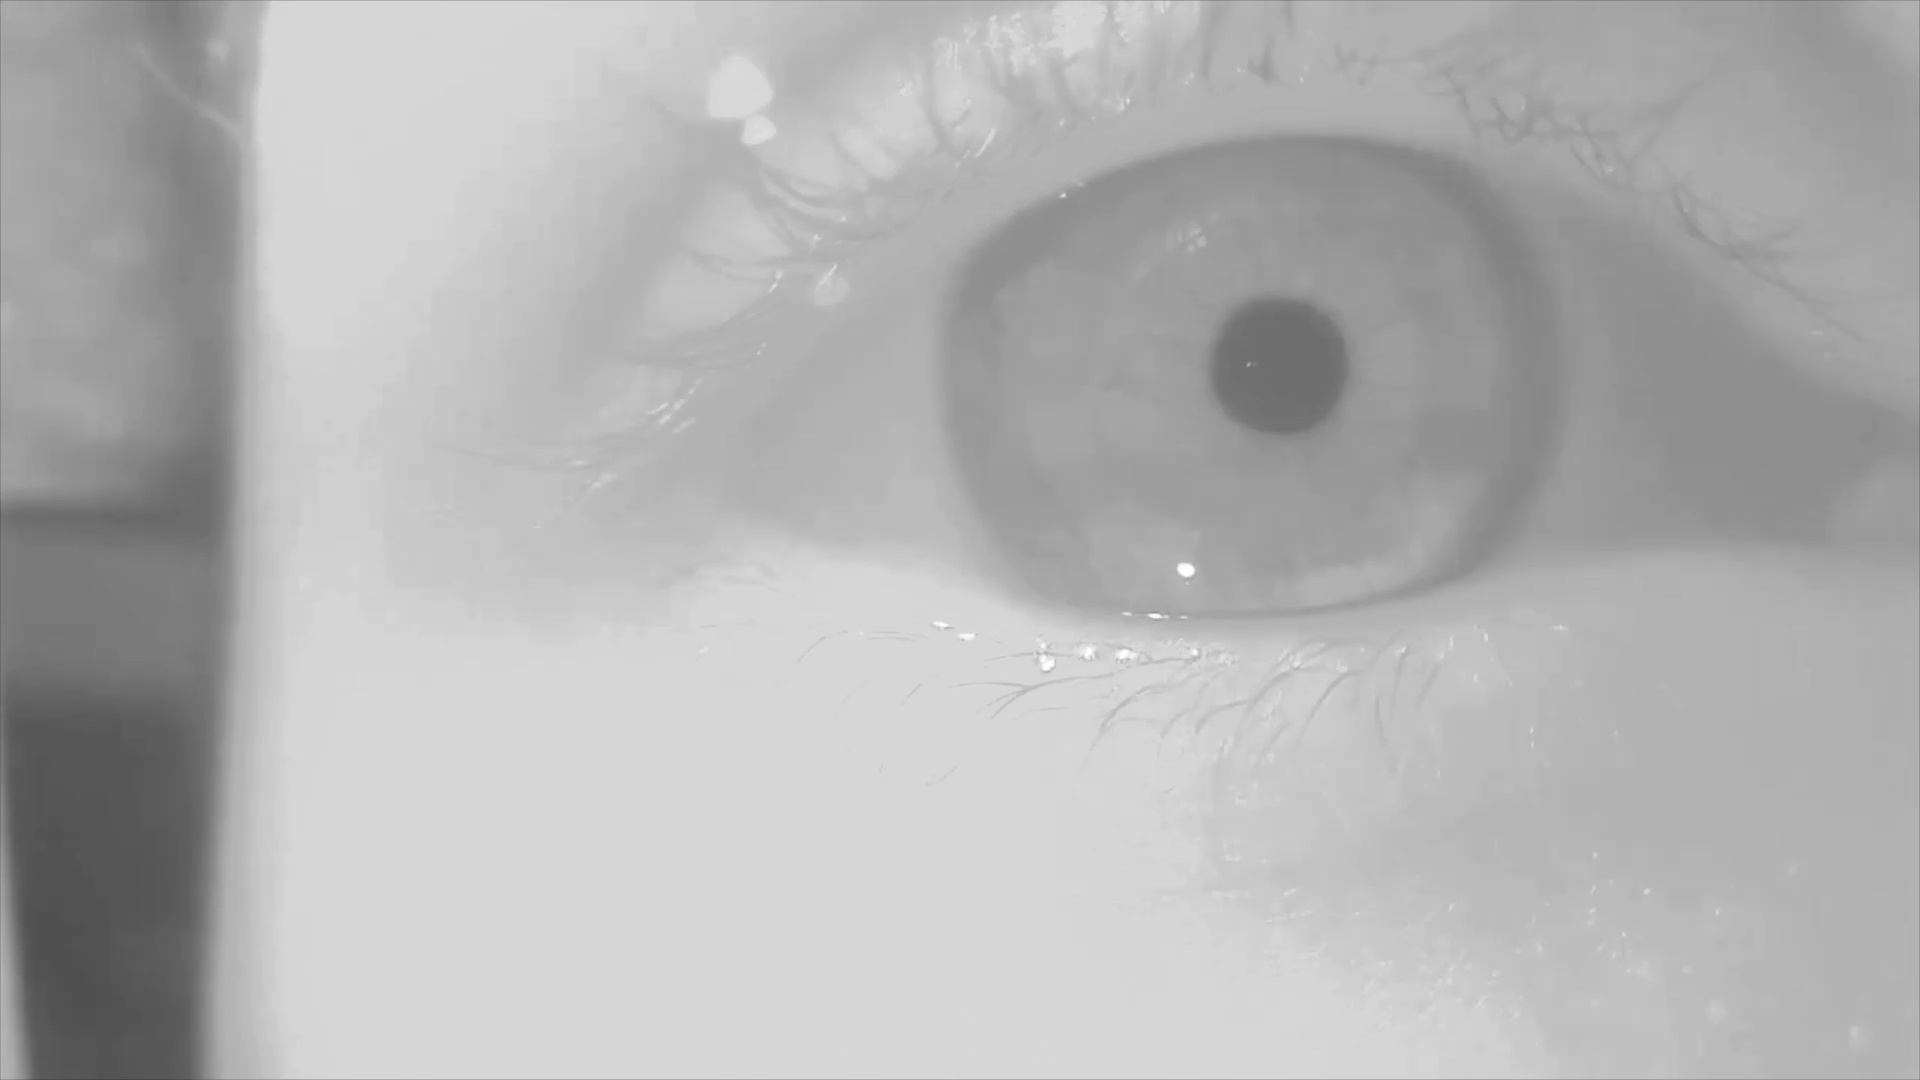pupil: (1219, 304, 1347, 434)
